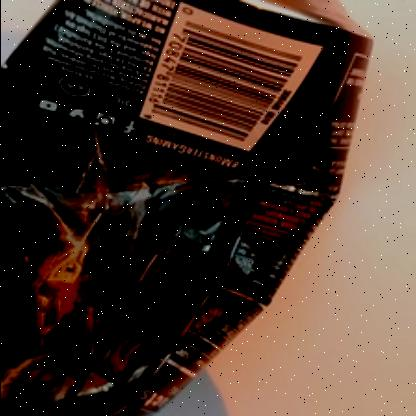Can: (0, 0, 374, 416)
